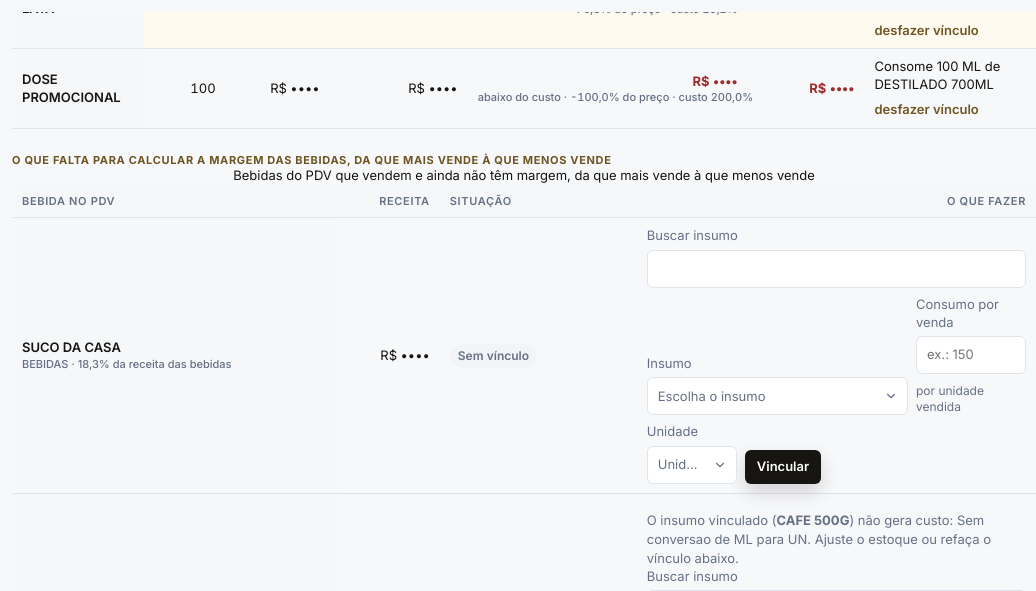
Scenario: MargemBebidasPanel: o que falta › sem escolher nada: erro anunciado, nada gravado
(page scrolled)
What coordinates should you click on to do the following:
click the button with aria-label "Vincular SUCO DA CASA"
I would click on:
 (783, 467)
Its box is [745,450,821,484].
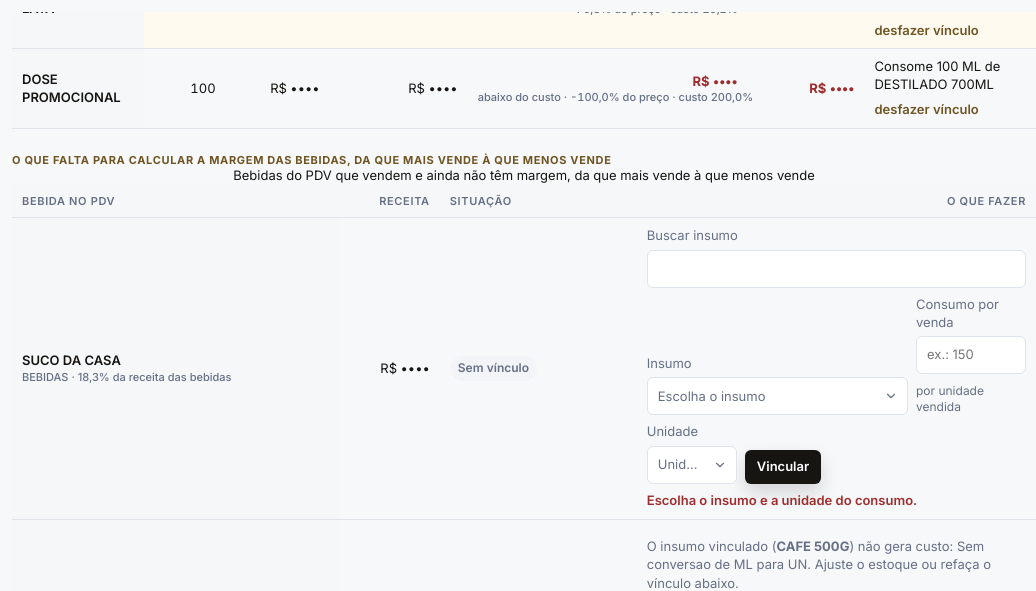
expect the message shows "Escolha o insumo e a unidade": met, box [647,492,917,508]
